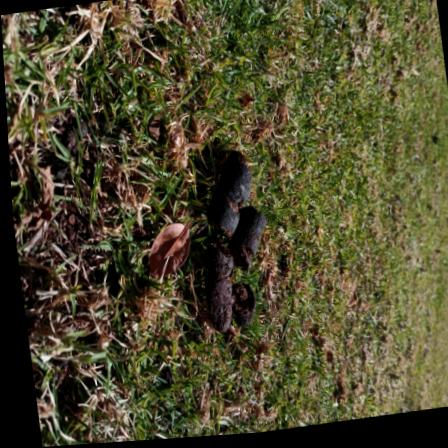dog-poop: (175, 148, 305, 361)
